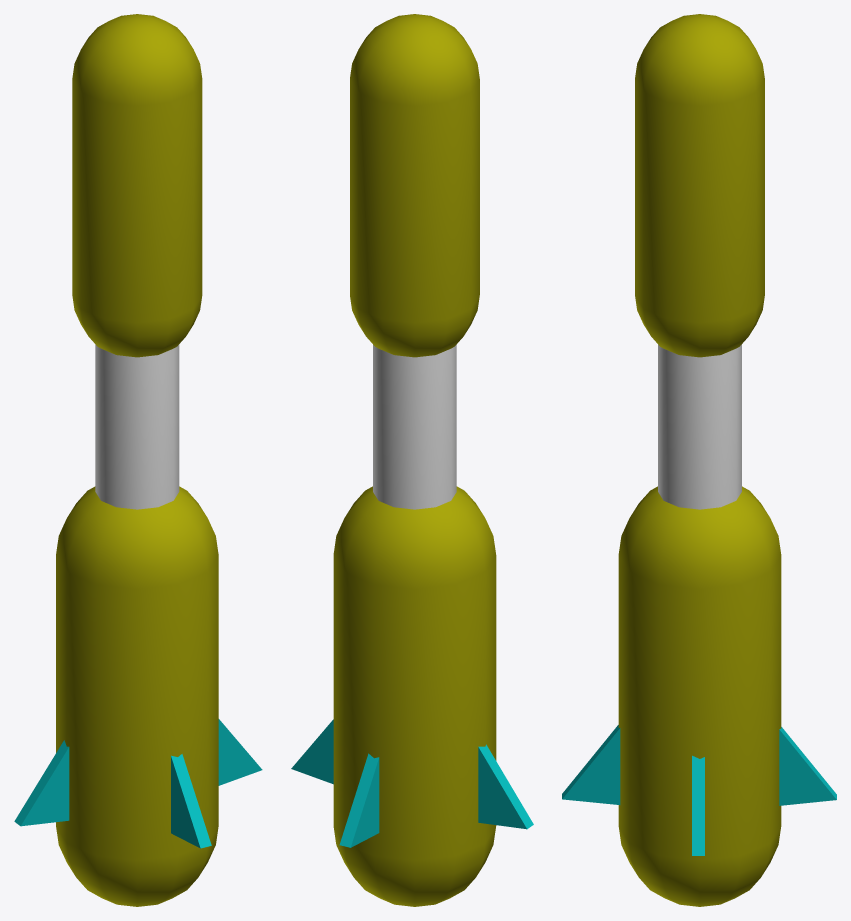
Rendered from missile2.FBX.
The picture shows the model from 3 angles, left to right: view 1: azimuth 30°, elevation 25°; view 2: azimuth 150°, elevation 25°; view 3: azimuth 270°, elevation 25°; orthographic projection.
Visible parts, largest first — view 1: Capsule003, Capsule001, Capsule002, Gengon003, Gengon002, Gengon001; view 2: Capsule003, Capsule001, Capsule002, Gengon003, Gengon004, Gengon001; view 3: Capsule003, Capsule001, Capsule002, Gengon002, Gengon004, Gengon001.
Part boxes in pixels (<box>): Capsule003: <box>56,486,218,906</box>; Capsule001: <box>72,14,202,357</box>; Capsule002: <box>95,344,179,509</box>; Gengon003: <box>14,740,69,826</box>; Gengon002: <box>171,754,211,848</box>; Gengon001: <box>218,719,262,785</box>; Capsule003: <box>333,486,496,906</box>; Capsule001: <box>350,14,479,357</box>; Capsule002: <box>373,345,456,509</box>; Gengon003: <box>478,744,533,829</box>; Gengon004: <box>339,753,379,847</box>; Gengon001: <box>291,719,333,784</box>; Capsule003: <box>618,486,781,906</box>; Capsule001: <box>635,14,764,357</box>; Capsule002: <box>658,344,741,509</box>; Gengon002: <box>562,725,620,804</box>; Gengon004: <box>779,727,836,805</box>; Gengon001: <box>692,755,704,855</box>.
Size of the model in its own units: 40.94 by 144 by 40.74.
